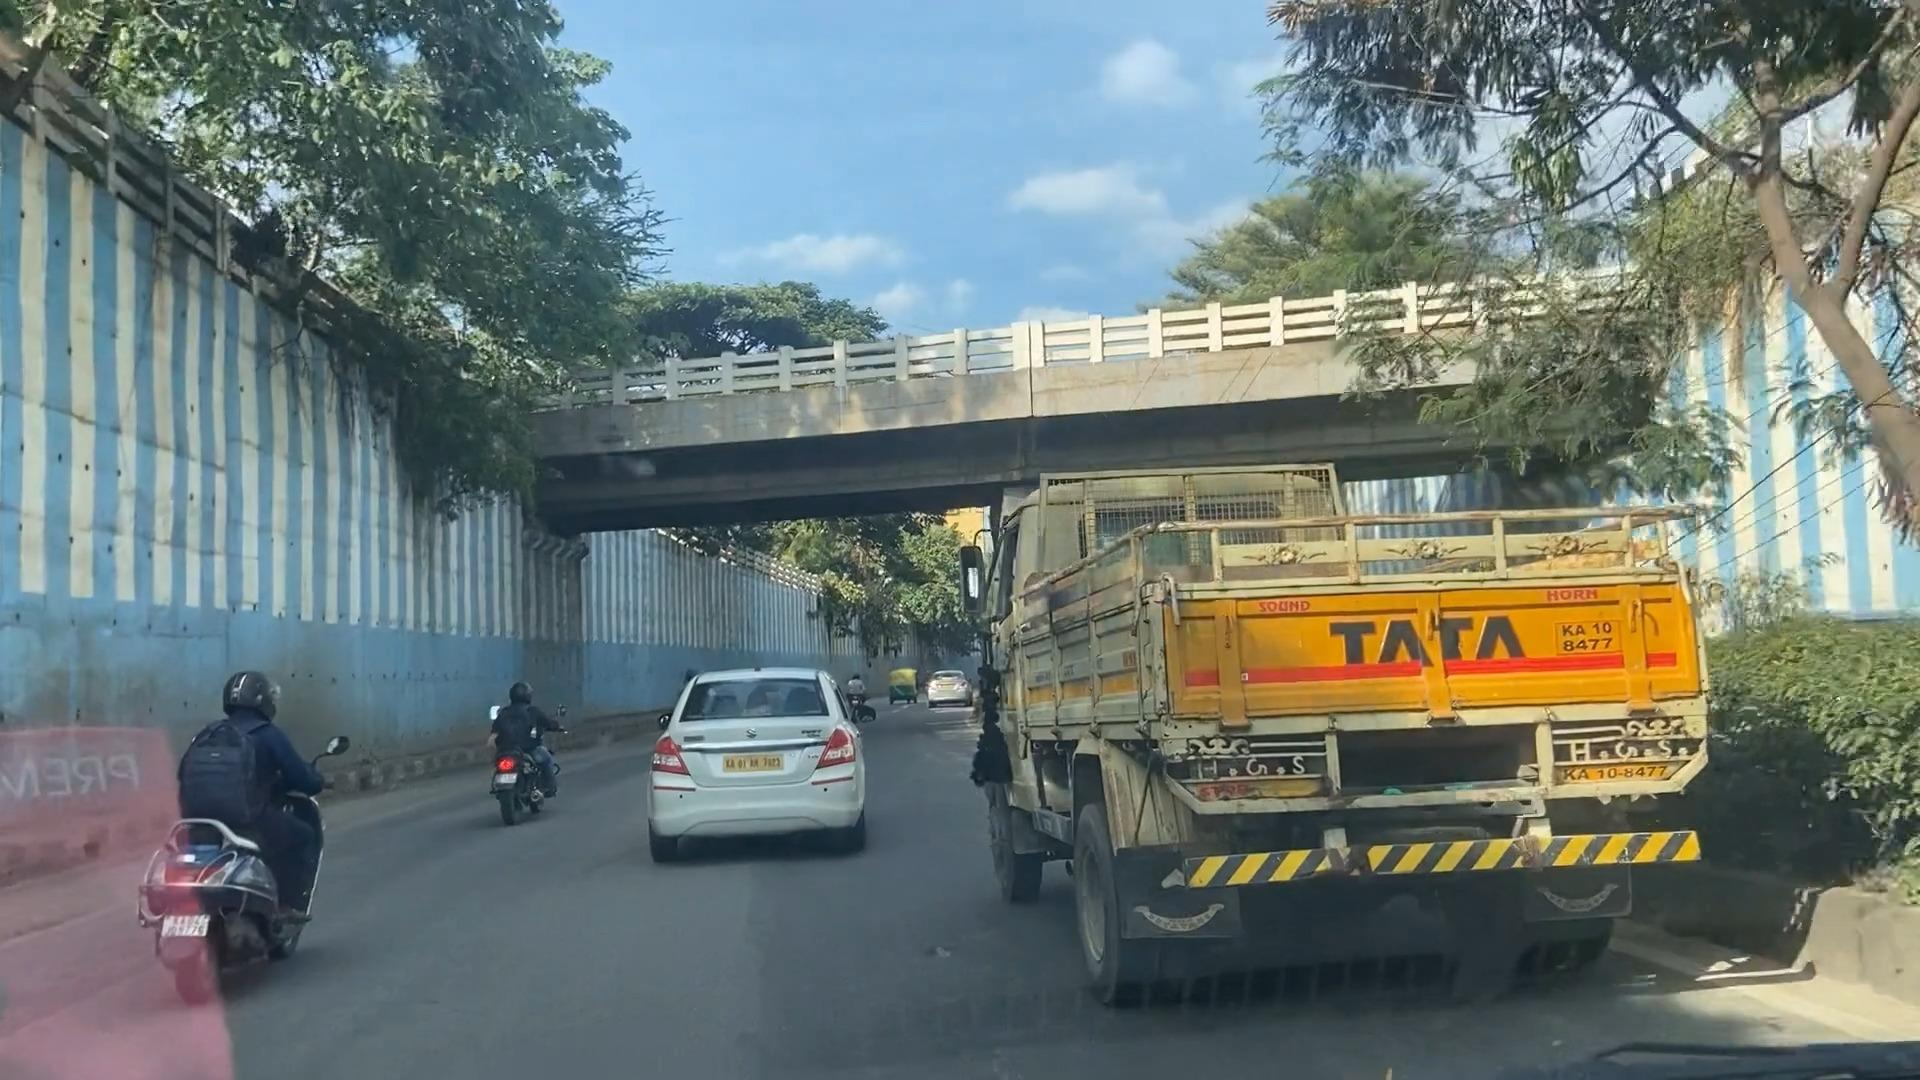HMV: (951, 497, 1684, 968)
LMV: (141, 654, 324, 988), (645, 667, 861, 861)
